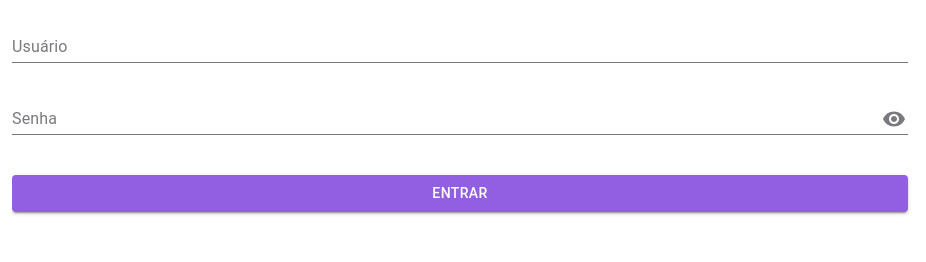
Test case: LoginForm › mostra erro se campos obrigatórios estiverem vazios
This screenshot has width=926, height=262.
Click the button "Entrar": (460, 193) [12,175,908,212]
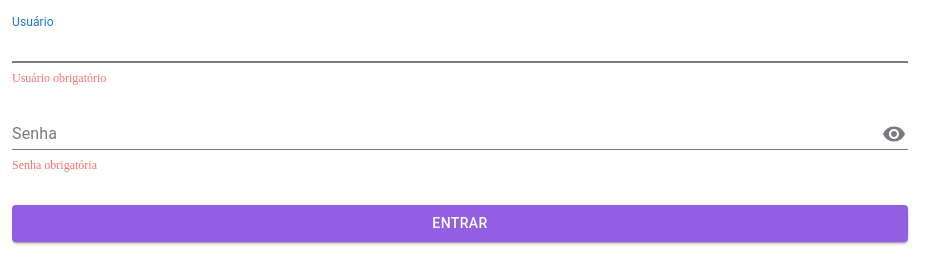
Now the text "Usuário obrigatório" is shown, box [12,71,106,85]
Now the text "Senha obrigatória" is shown, box [12,158,97,172]
